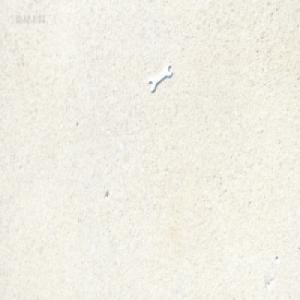Wrench: (148, 63, 171, 93)
